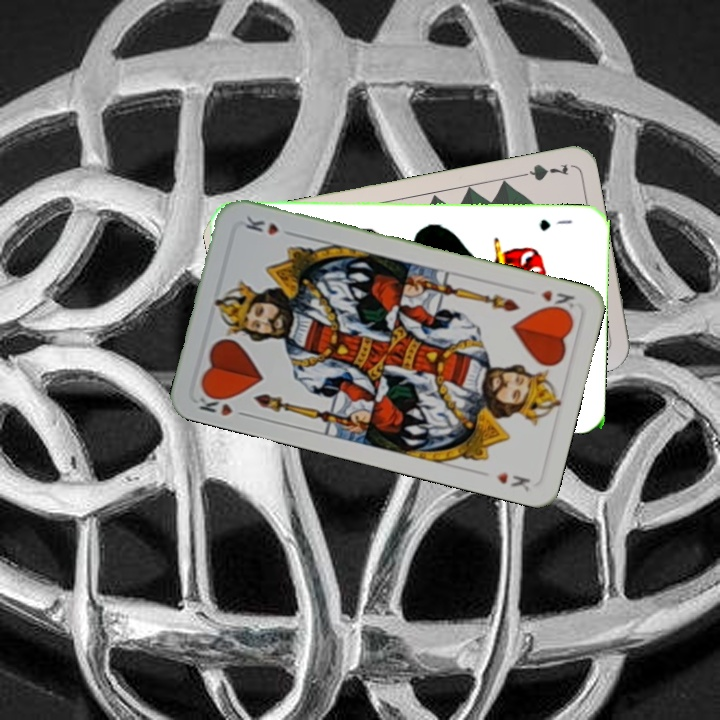G7: (512, 160, 571, 184)
GU: (535, 215, 575, 234)
HK: (195, 387, 251, 420), (537, 286, 577, 317)
